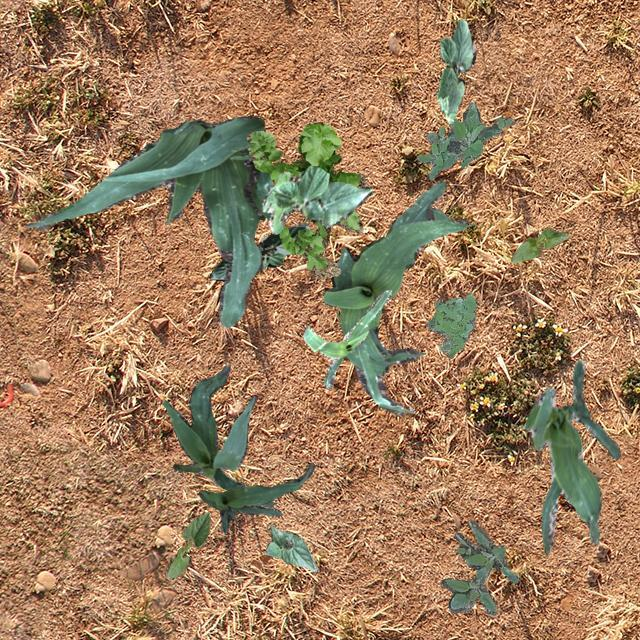crop: (25, 115, 272, 326), (322, 180, 467, 414), (522, 360, 620, 554), (162, 364, 276, 506), (302, 290, 390, 388), (198, 462, 314, 532), (262, 165, 372, 232), (208, 222, 308, 280), (436, 18, 476, 122), (164, 511, 210, 578), (264, 524, 316, 570), (510, 226, 568, 262)
weed: (246, 122, 364, 278), (416, 102, 514, 178), (440, 520, 518, 614), (426, 292, 476, 358)
